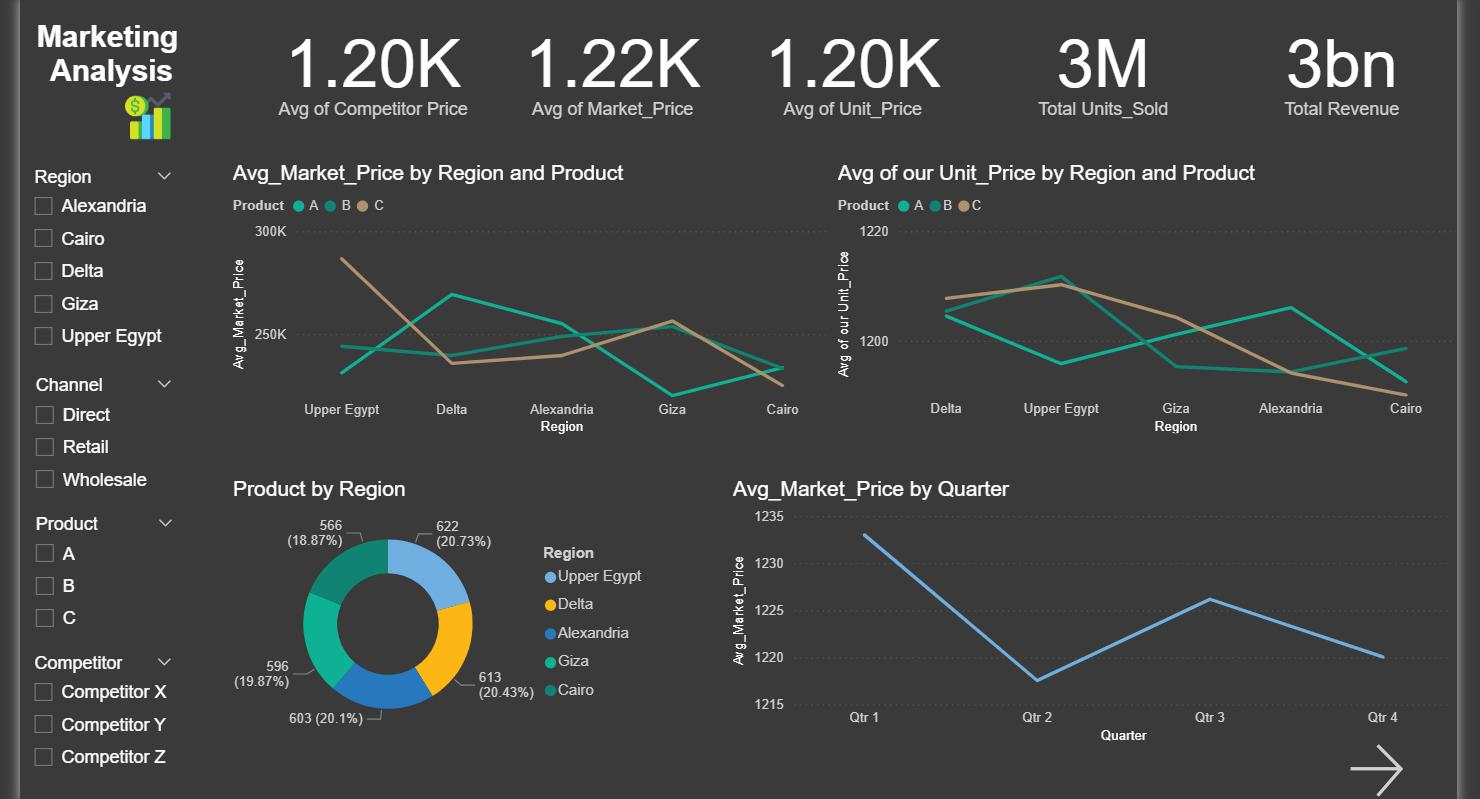

What the dashboard file says about the page in this screenshot:
{"tool":"powerbi","page":{"name":"Market_Analysis","canvas":[1280,720],"ordinal":1},"visuals":[{"type":"card","fields":{"Values":["Avg(Sales_Data.Unit_Price)"]},"box":[630.4,0,223.3,127.3],"z":0},{"type":"card","fields":{"Values":["Sum(Sales_Data.Units_Sold)"]},"box":[853.7,0,222.1,127.3],"z":1000},{"type":"card","fields":{"Values":["Sum(Sales_Data.Revenue)"]},"box":[1075.9,0,204.1,127.3],"z":2000},{"type":"slicer","fields":{"Values":["Market_Prices.Region"]},"box":[0,146.5,147.7,186.1],"z":3000},{"type":"slicer","fields":{"Values":["Sales_Data.Product"]},"box":[1.2,456.3,147.7,123.7],"z":4000},{"type":"slicer","fields":{"Values":["Competitor_Analysis.Competitor"]},"box":[0,580,147.7,120.1],"z":5000},{"type":"card","fields":{"Values":["Avg(Market_Prices.Average_Market_Price)"]},"box":[416.7,0,223.3,127.3],"z":6000},{"type":"card","fields":{"Values":["Avg(Competitor_Analysis.Price)"]},"box":[212.5,0,204.1,127.3],"z":7000},{"type":"textbox","box":[0,16.8,163.3,92.5],"z":8000},{"type":"image","box":[74.4,78,78,57.6],"z":9000},{"type":"slicer","fields":{"Values":["Sales_Data.Channel"]},"box":[1.2,332.6,146.5,123.7],"z":10000},{"type":"lineChart","fields":{"Category":["Market_Prices.Region"],"Y":["Sum(Market_Prices.Average_Market_Price)"],"Series":["Market_Prices.Product"]},"box":[184.8,146.5,538.8,248],"z":11000},{"type":"lineChart","fields":{"Category":["Sales_Data.Region"],"Y":["Avg(Sales_Data.Unit_Price)"],"Series":["Sales_Data.Product"]},"box":[723.3,146.5,557,247.7],"z":12000},{"type":"donutChart","fields":{"Category":["Market_Prices.Region"],"Y":["CountNonNull(Market_Prices.Product)"]},"box":[184.8,428.3,383.2,241.2],"z":13000},{"type":"lineChart","fields":{"Category":["Market_Prices.Date.Variation.Date Hierarchy.Quarter","Market_Prices.Date.Variation.Date Hierarchy.Month","Market_Prices.Date.Variation.Date Hierarchy.Day"],"Y":["Avg(Market_Prices.Average_Market_Price)"]},"box":[630.1,428.3,650.3,241.2],"z":14000},{"type":"actionButton","box":[1177.7,660.5,102.3,59.3],"z":15000}]}

Visuals, with their boxes on the page's 1280x720 design canvas (x1, y1, x2, y2). These are canvas units, not pixel positions in the 1480x799 screenshot, which may show the page scaled, cropped or inside an application window:
card - Avg(Sales_Data.Unit_Price): {"left": 630, "top": 0, "right": 854, "bottom": 127}
card - Sum(Sales_Data.Units_Sold): {"left": 854, "top": 0, "right": 1076, "bottom": 127}
card - Sum(Sales_Data.Revenue): {"left": 1076, "top": 0, "right": 1280, "bottom": 127}
slicer - Market_Prices.Region: {"left": 0, "top": 146, "right": 148, "bottom": 333}
slicer - Sales_Data.Product: {"left": 1, "top": 456, "right": 149, "bottom": 580}
slicer - Competitor_Analysis.Competitor: {"left": 0, "top": 580, "right": 148, "bottom": 700}
card - Avg(Market_Prices.Average_Market_Price): {"left": 417, "top": 0, "right": 640, "bottom": 127}
card - Avg(Competitor_Analysis.Price): {"left": 212, "top": 0, "right": 417, "bottom": 127}
textbox: {"left": 0, "top": 17, "right": 163, "bottom": 109}
image: {"left": 74, "top": 78, "right": 152, "bottom": 136}
slicer - Sales_Data.Channel: {"left": 1, "top": 333, "right": 148, "bottom": 456}
lineChart - Market_Prices.Region x Sum(Market_Prices.Average_Market_Price): {"left": 185, "top": 146, "right": 724, "bottom": 394}
lineChart - Sales_Data.Region x Avg(Sales_Data.Unit_Price): {"left": 723, "top": 146, "right": 1280, "bottom": 394}
donutChart - Market_Prices.Region x CountNonNull(Market_Prices.Product): {"left": 185, "top": 428, "right": 568, "bottom": 670}
lineChart - Market_Prices.Date.Variation.Date Hierarchy.Quarter x Market_Prices.Date.Variation.Date Hierarchy.Month: {"left": 630, "top": 428, "right": 1280, "bottom": 670}
actionButton: {"left": 1178, "top": 660, "right": 1280, "bottom": 720}
